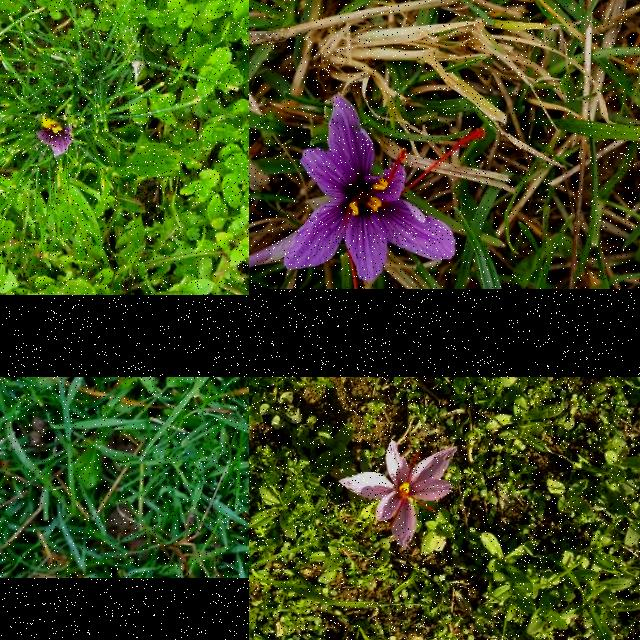flower: (284, 91, 486, 289), (339, 442, 455, 550)
